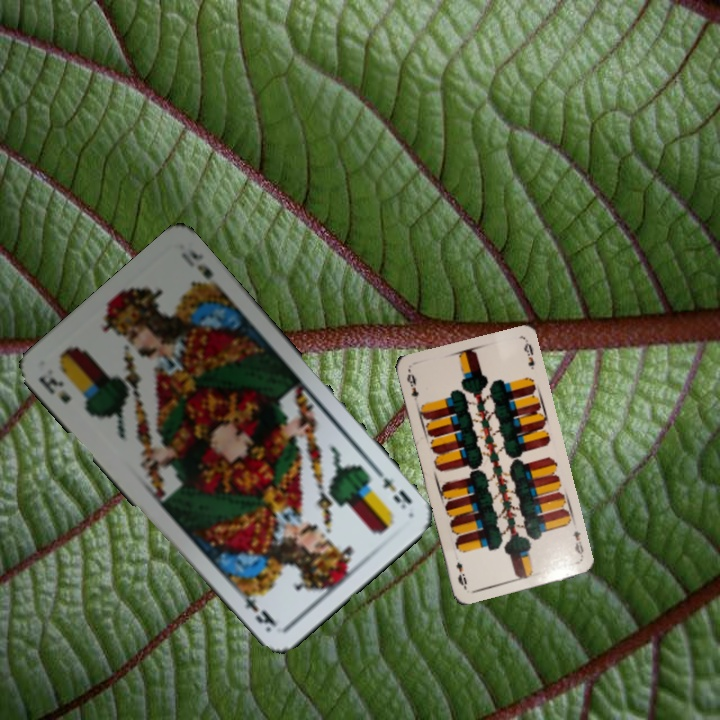E9: (402, 367, 421, 403), (569, 527, 586, 560)
EK: (370, 463, 415, 512), (34, 372, 74, 406)
